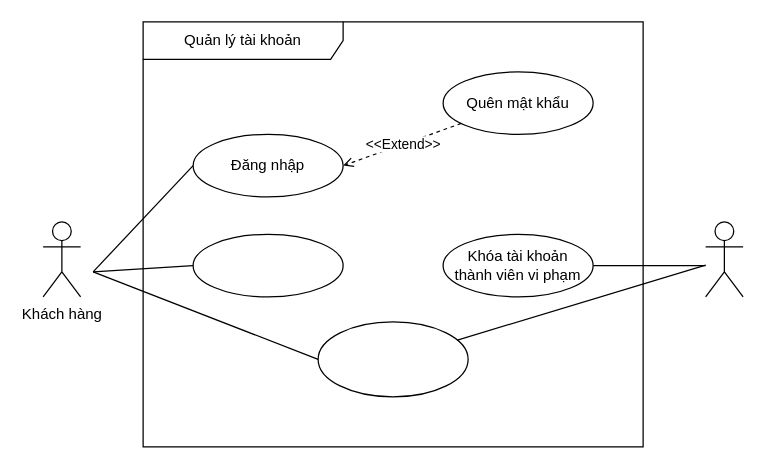
Image size: 766x469. Some labels were removed from this diagram. The shapes that lost their labels are listed below. From the top down, each one's centre as x and y in pixels, then its label:
the point at 267,265: Đăng ký
the point at 723,259: Admin
the point at 392,359: Thay đổi thông tin tài khoản
